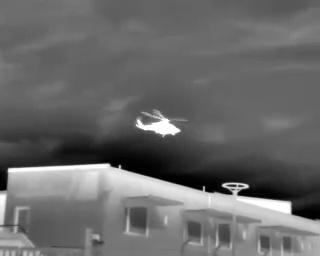HELICOPTER: (133, 102, 192, 145)
